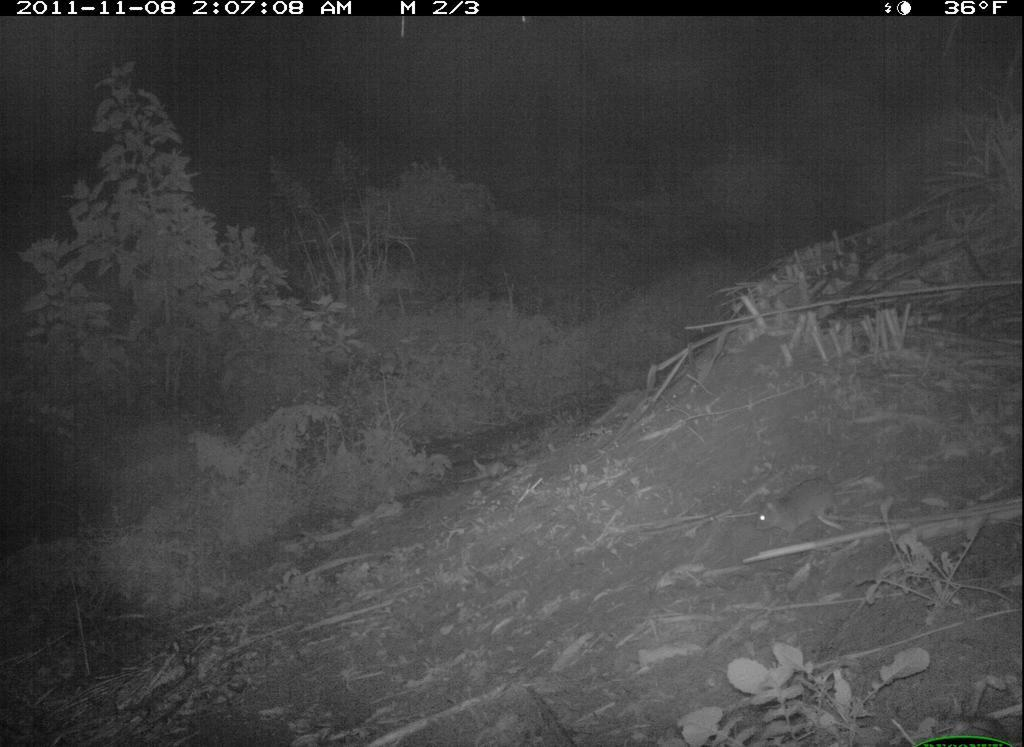rodent: (740, 457, 868, 543)
